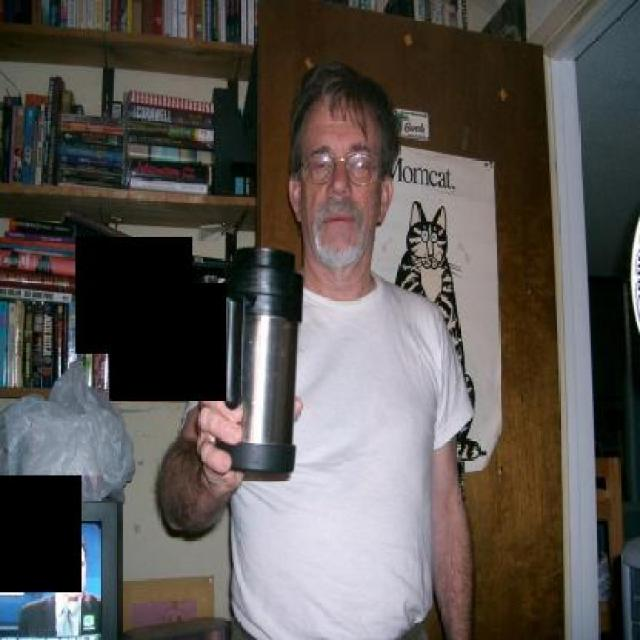plastic bag: (0, 351, 137, 502)
